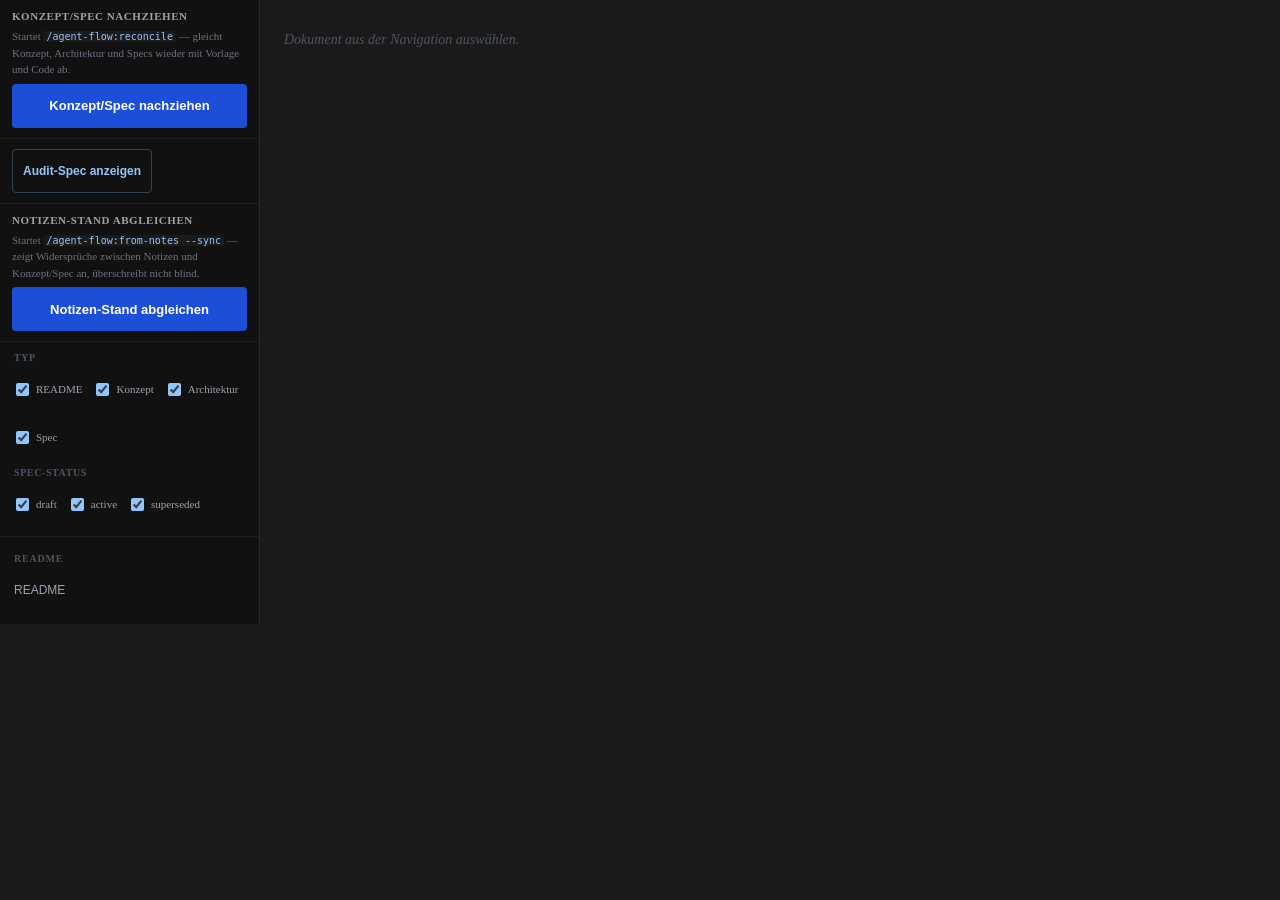
Test: SpecView — obsidian-sync-trigger AC3: Starten POSTet genau einmal, Abbrechen nicht › Abbrechen schließt Dialog ohne POST
The width and height of the screenshot is (1280, 900).
Click the button with test id "obsidian-sync-btn": (130, 309) [12,287,247,331]
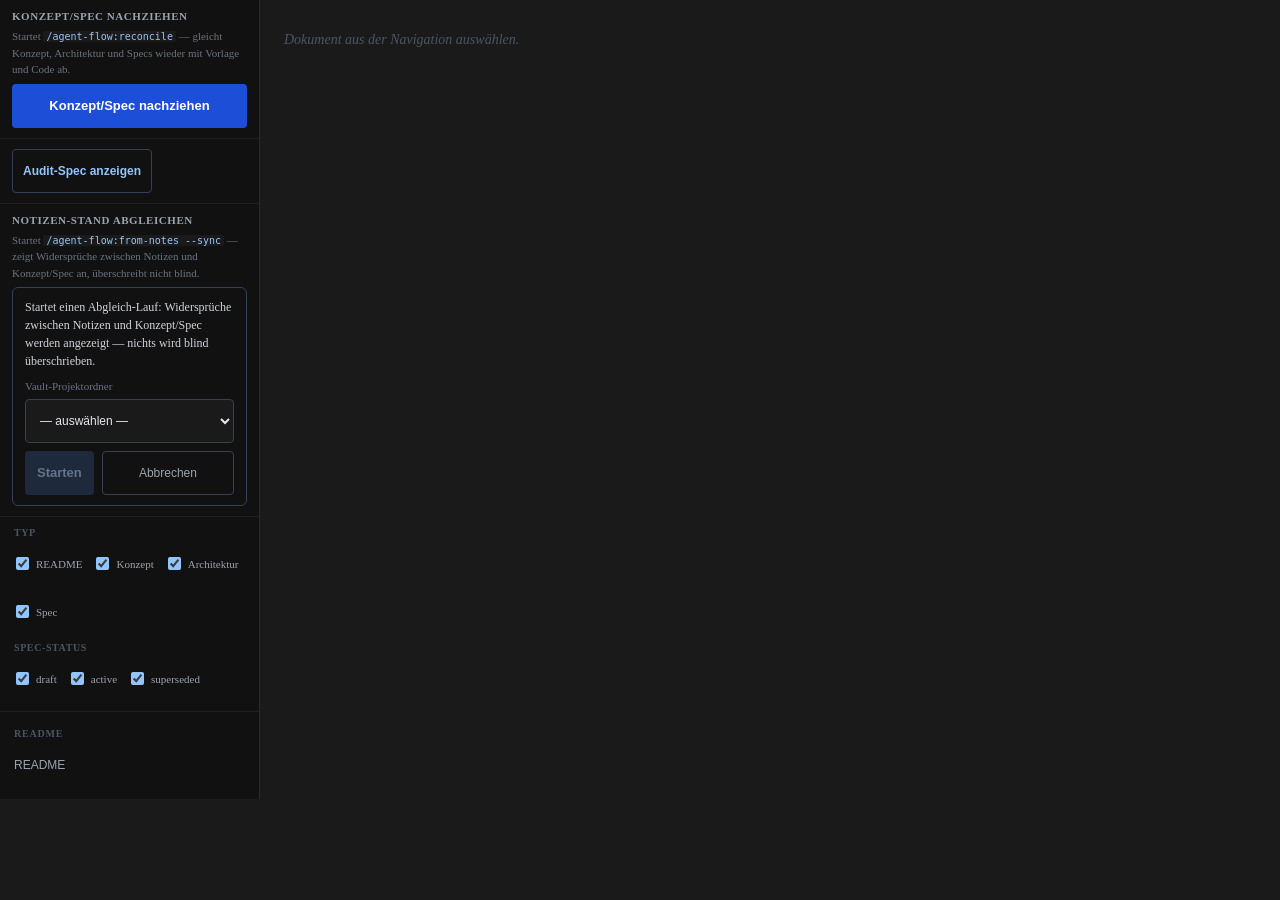
Check: the dialog with test id "obsidian-sync-confirm-dialog" is shown, box [12,287,247,506]
Click the button with test id "obsidian-sync-confirm-no": (168, 472) [102,450,234,494]
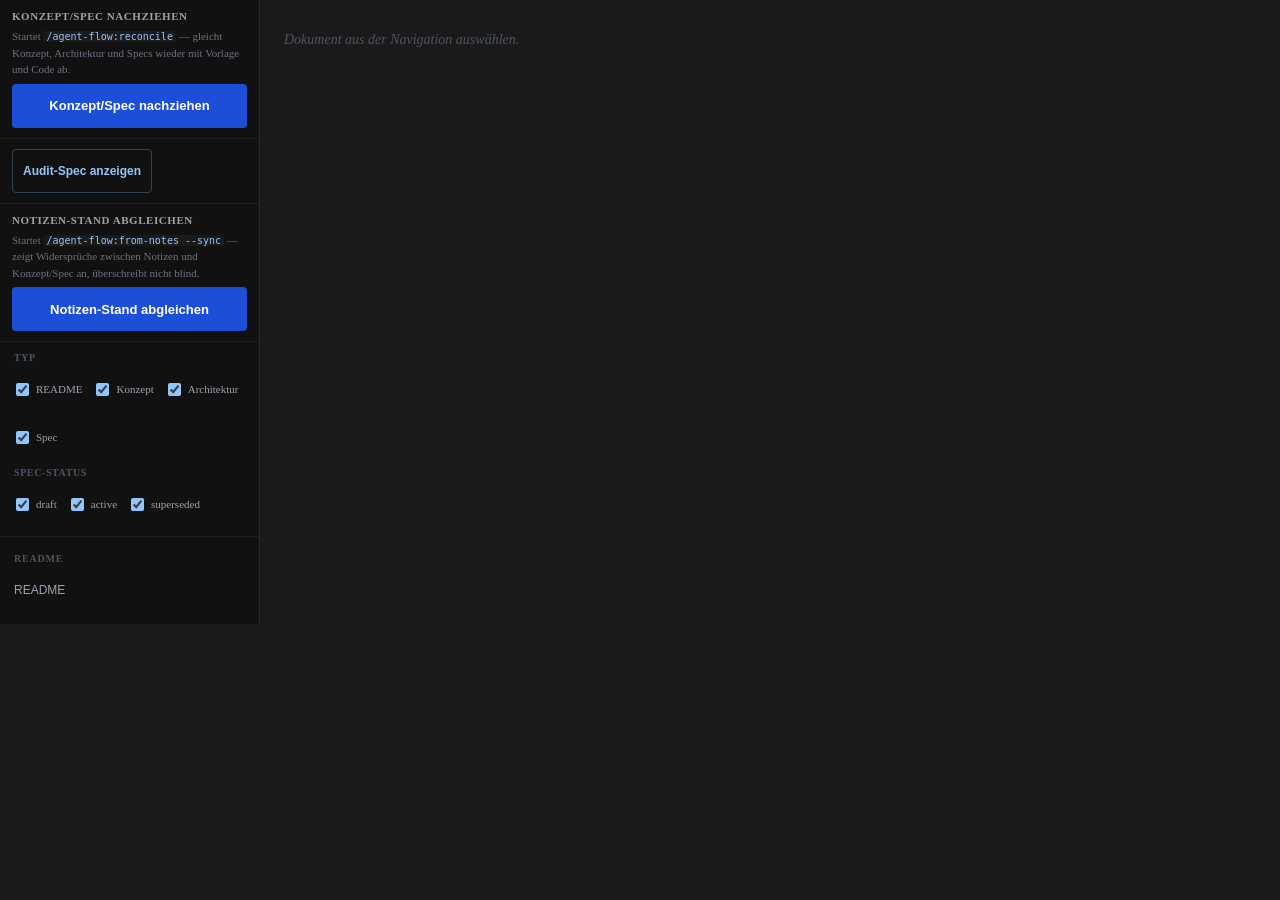
Check: the dialog with test id "obsidian-sync-confirm-dialog" is gone
